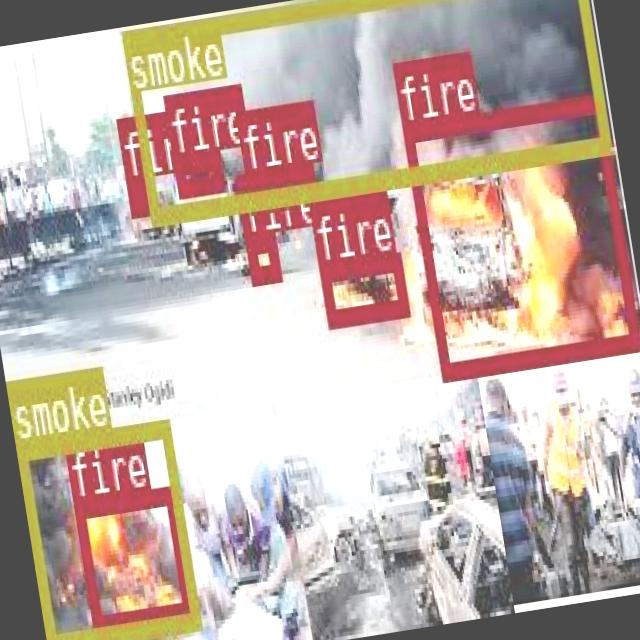fire: (400, 93, 640, 377), (72, 483, 192, 632), (318, 250, 407, 326), (172, 150, 222, 195), (243, 166, 285, 209), (244, 229, 278, 281), (124, 176, 150, 213)
smoke: (120, 0, 609, 223), (15, 419, 198, 640)
